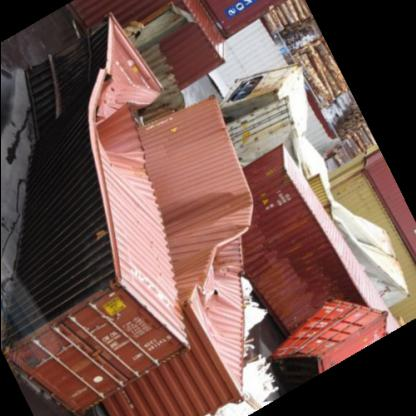Damage: (174, 152, 260, 398), (70, 8, 160, 194)
